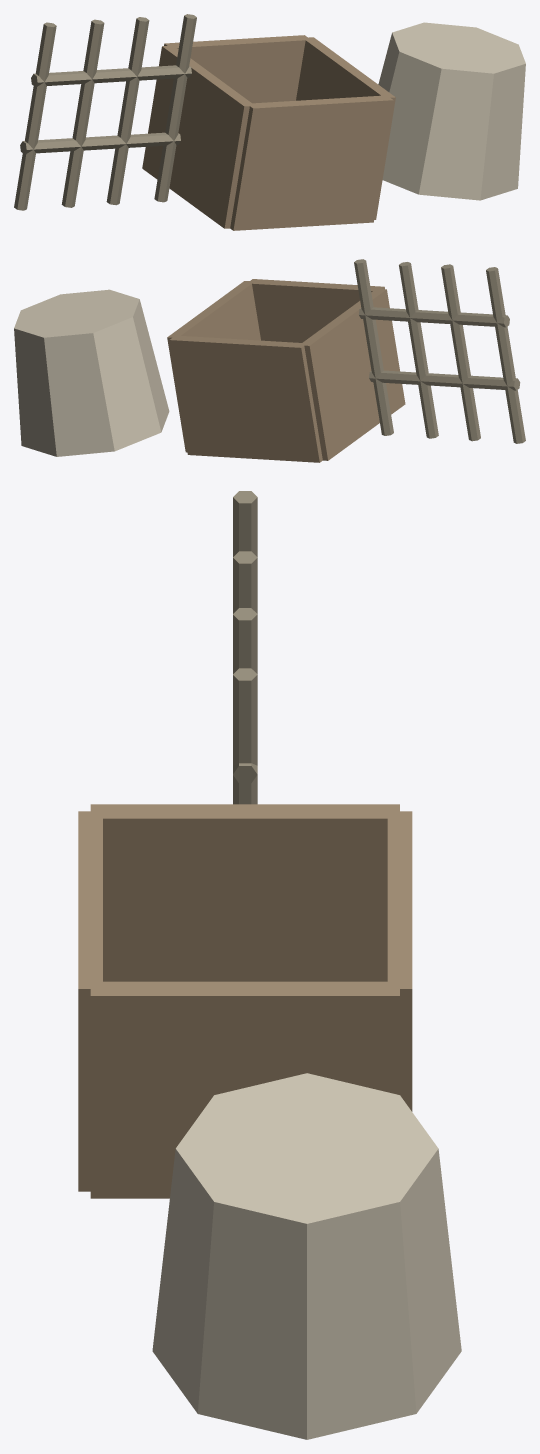
The model's file is FloatingRuralCluster.fbx.
3 views of the same model, one above another, from view 1: azimuth 30°, elevation 25°; view 2: azimuth 150°, elevation 25°; view 3: azimuth 270°, elevation 25° (orthographic). The views are drawn at different scales.
Visible parts, largest first — view 1: FR_FIX_FloatingRuralCluster; view 2: FR_FIX_FloatingRuralCluster; view 3: FR_FIX_FloatingRuralCluster.
Part boxes in pixels (x1,y1,x2,y2): FR_FIX_FloatingRuralCluster: (14,14,525,230); FR_FIX_FloatingRuralCluster: (14,259,525,462); FR_FIX_FloatingRuralCluster: (78,491,461,1439).
Bounding box in the file's own units: 182 × 90.65 × 62.
